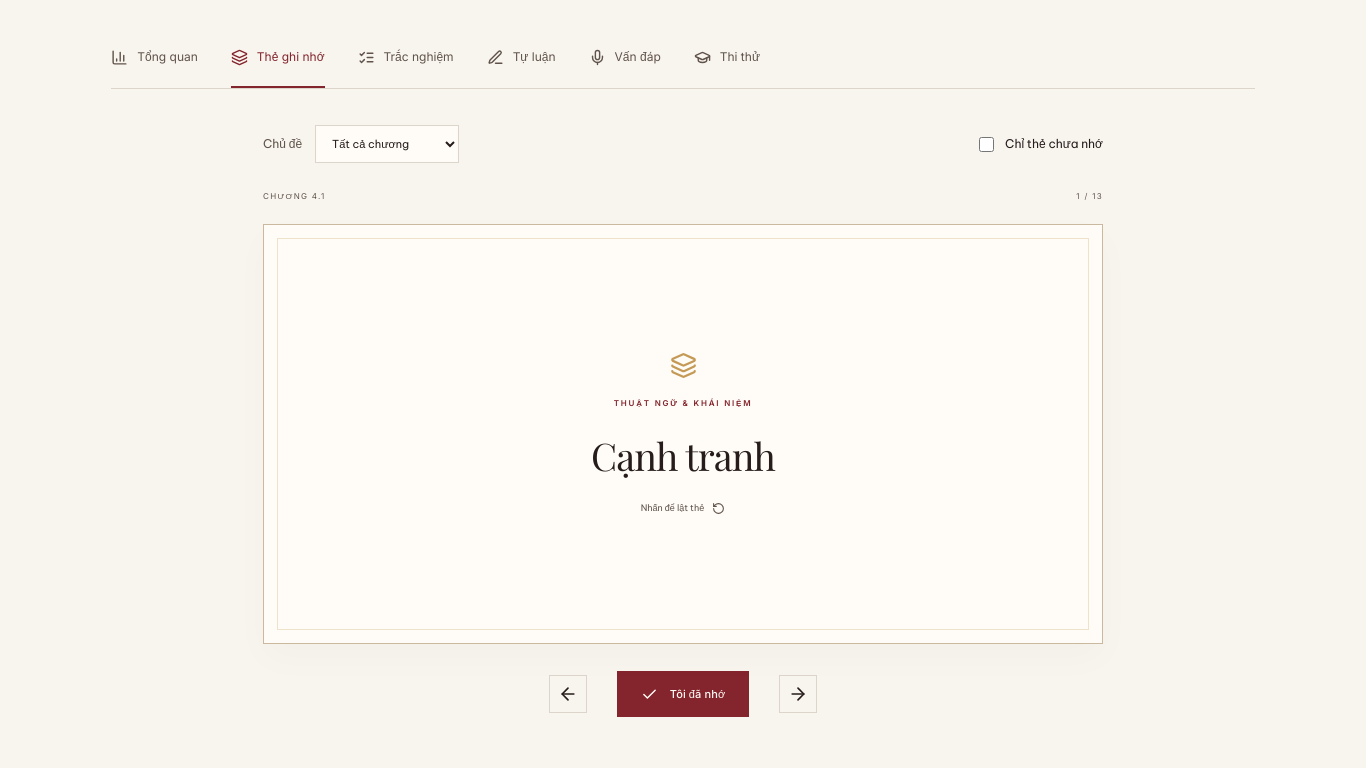
Test case: Revision workflows › flips cards, saves remembered status, and filters by topic
The image size is (1366, 768).
(page scrolled)
Click the button with aria-label "Lật để xem giải thích". click: [683, 434]
box: [263,224,1103,644]
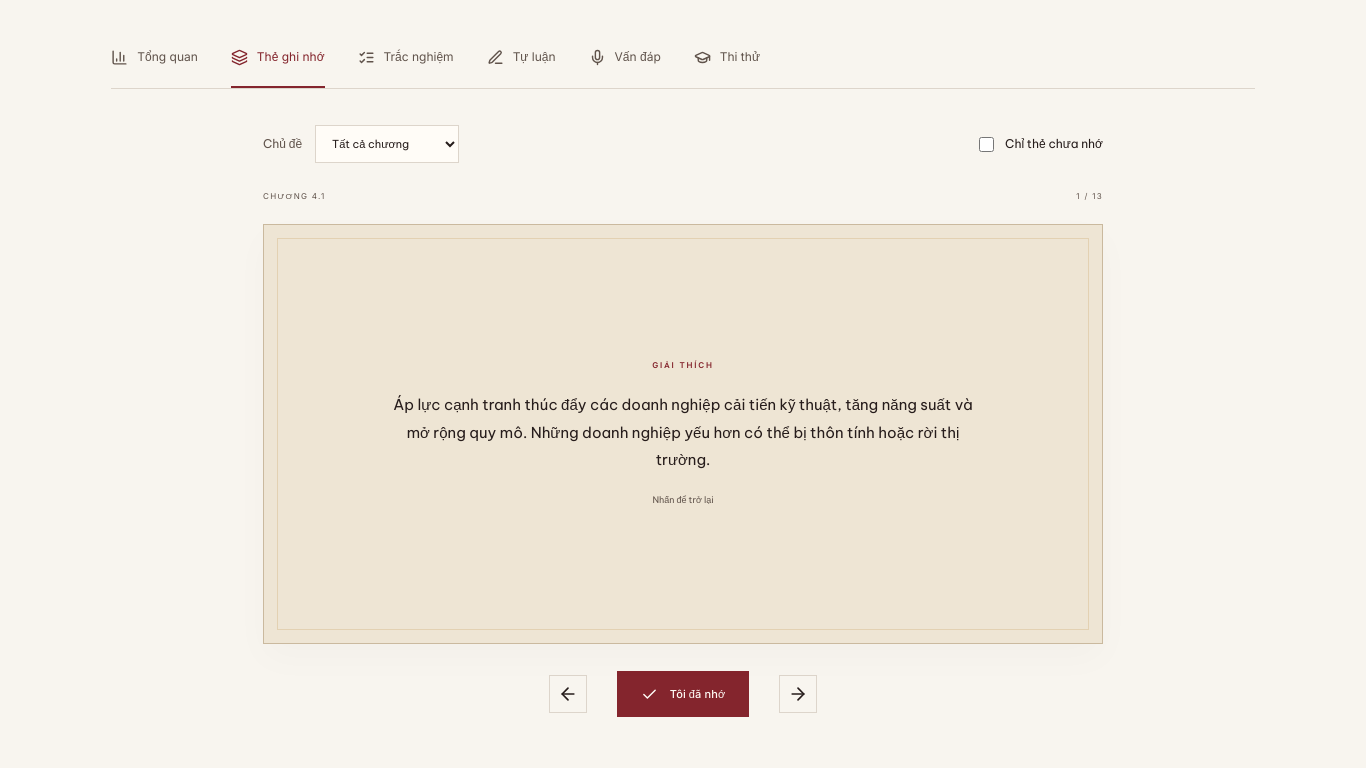
Result: the button with aria-label "Lật về thuật ngữ" is pressed at [263,224,1103,644]
Click the button "Tôi đã nhớ". click: [683, 694]
box: [617,671,749,717]
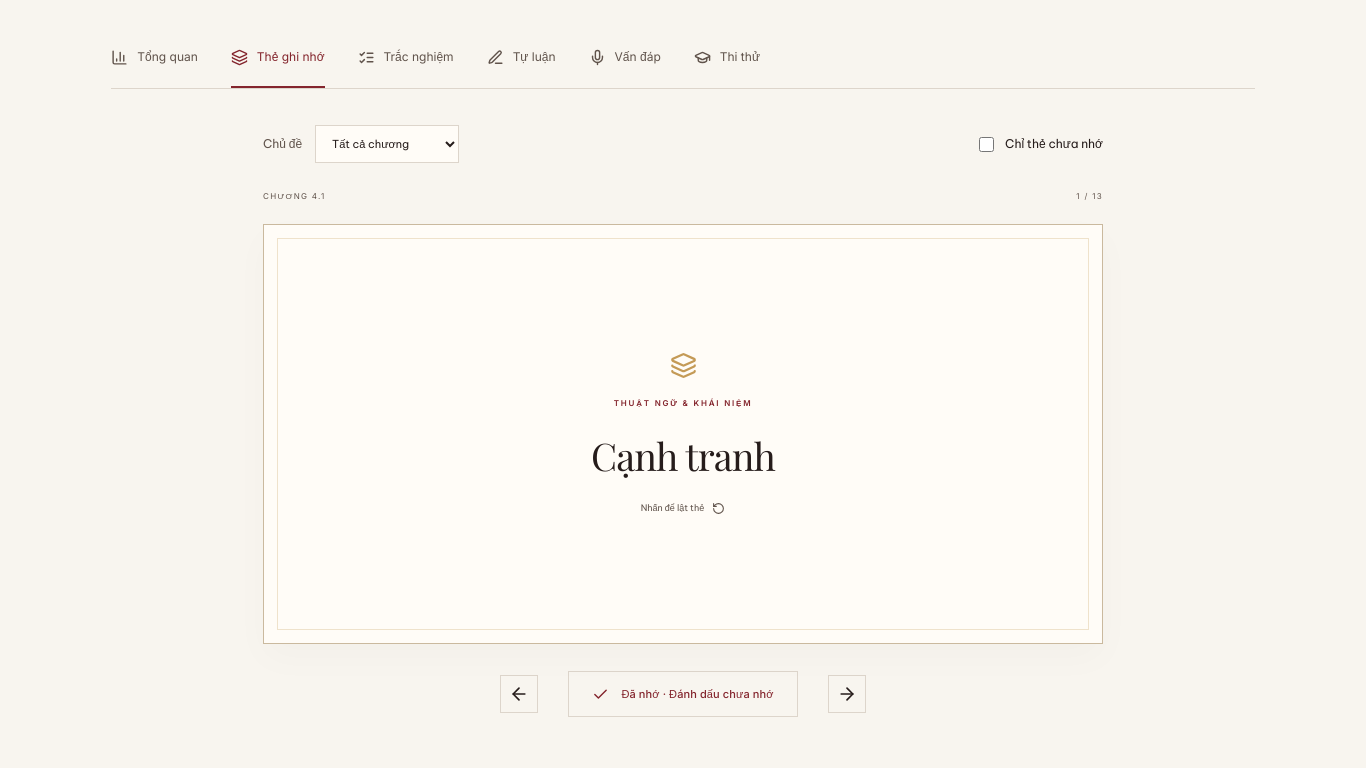
Select "Chương 4.2" in the dropdown. click: [387, 144]
box: [315,126,459,164]
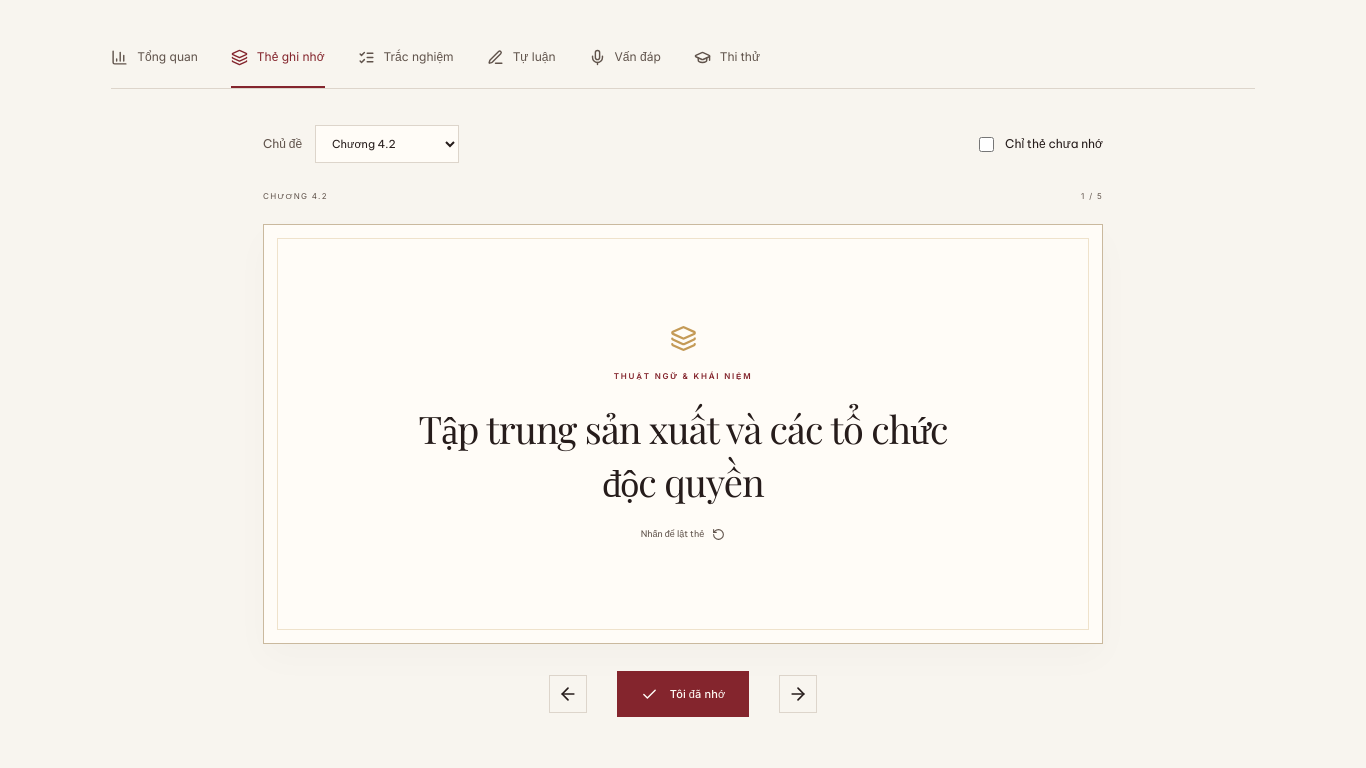
Result: the text "1 / 5" is shown at [1081,190,1103,204]
Click the button named "Thẻ tiếp theo". click: [798, 694]
box: [779,675,817,713]
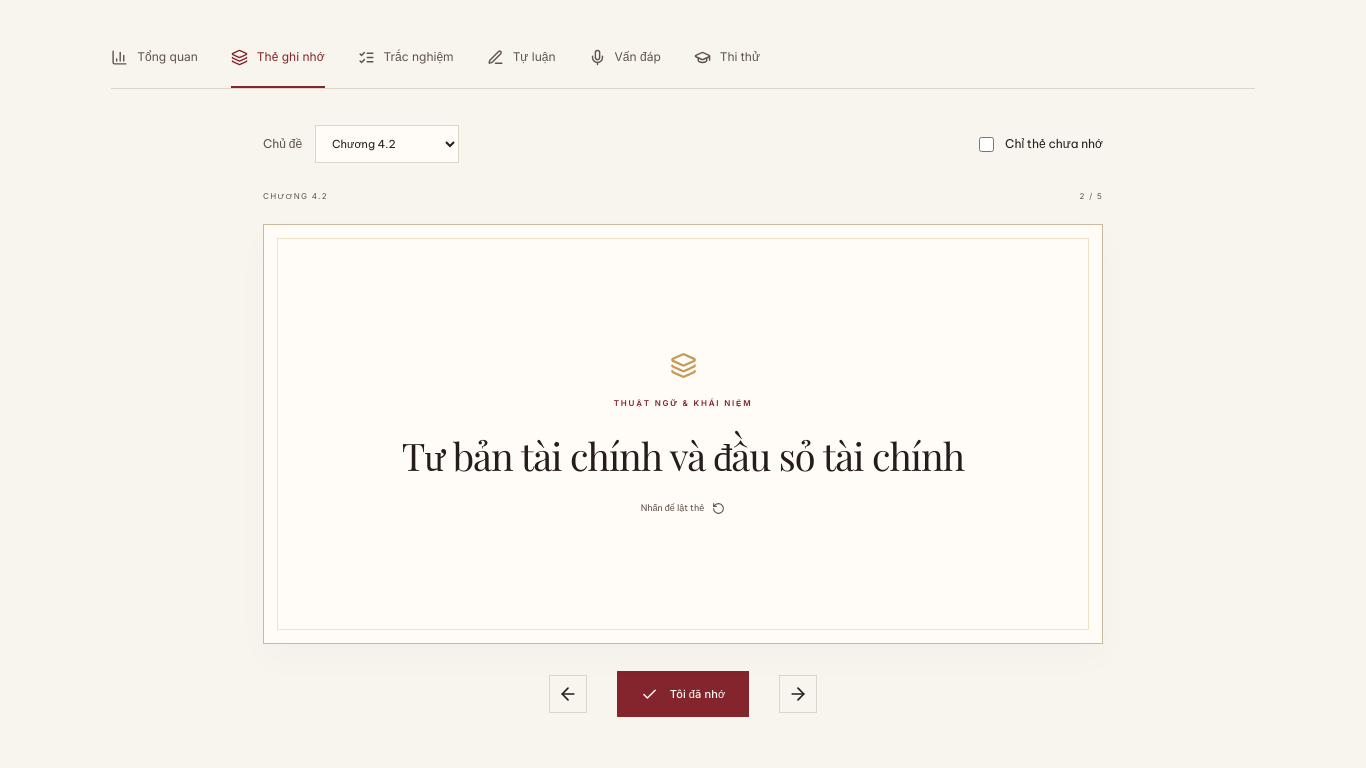
Result: the text "2 / 5" is shown at [1080,190,1103,204]
